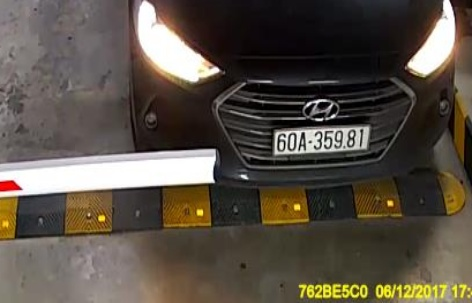plate: (271, 121, 380, 157)
